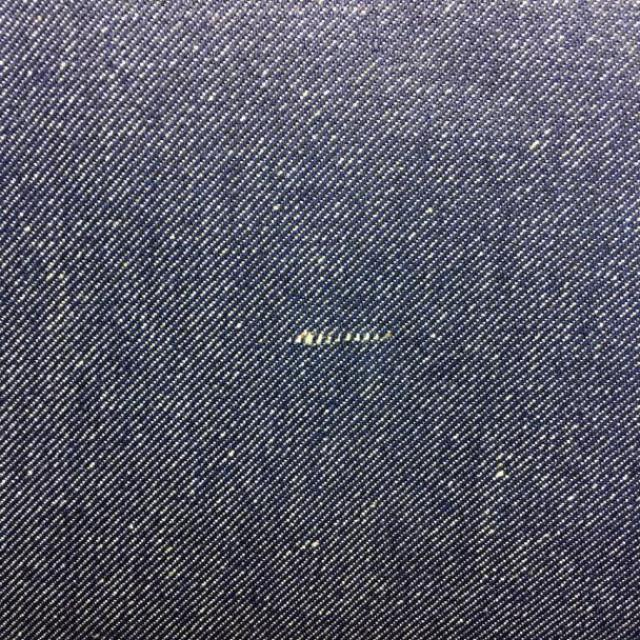Knot: (294, 329, 395, 347)
